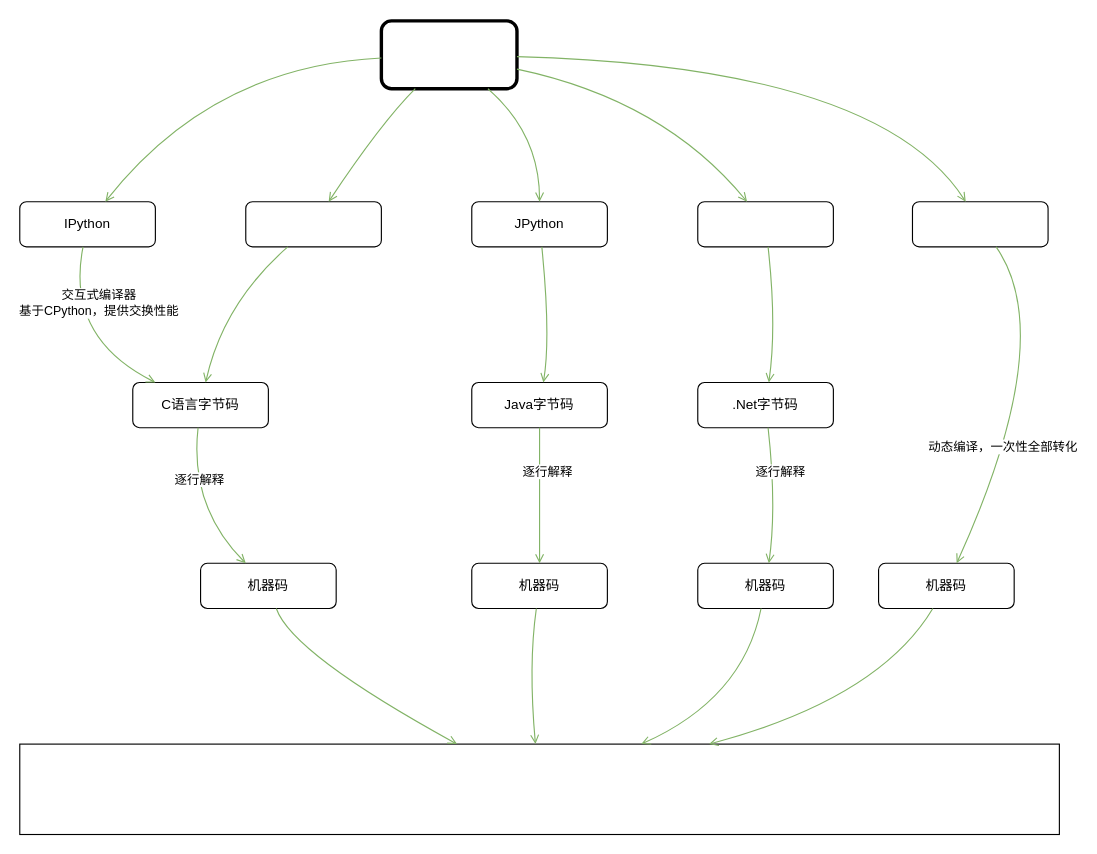
This 1097x854 diagram has some shape labels left out. The shapes that lost their labels are listed below. From the top down, each one's box as (x1, y1, x2, y2) in pixels, then its label:
(379, 19, 518, 90): Python统一代码
(245, 201, 381, 247): CPython
(697, 201, 833, 247): IronPython
(911, 201, 1048, 247): PyPy
(19, 743, 1059, 835): 操作系统
